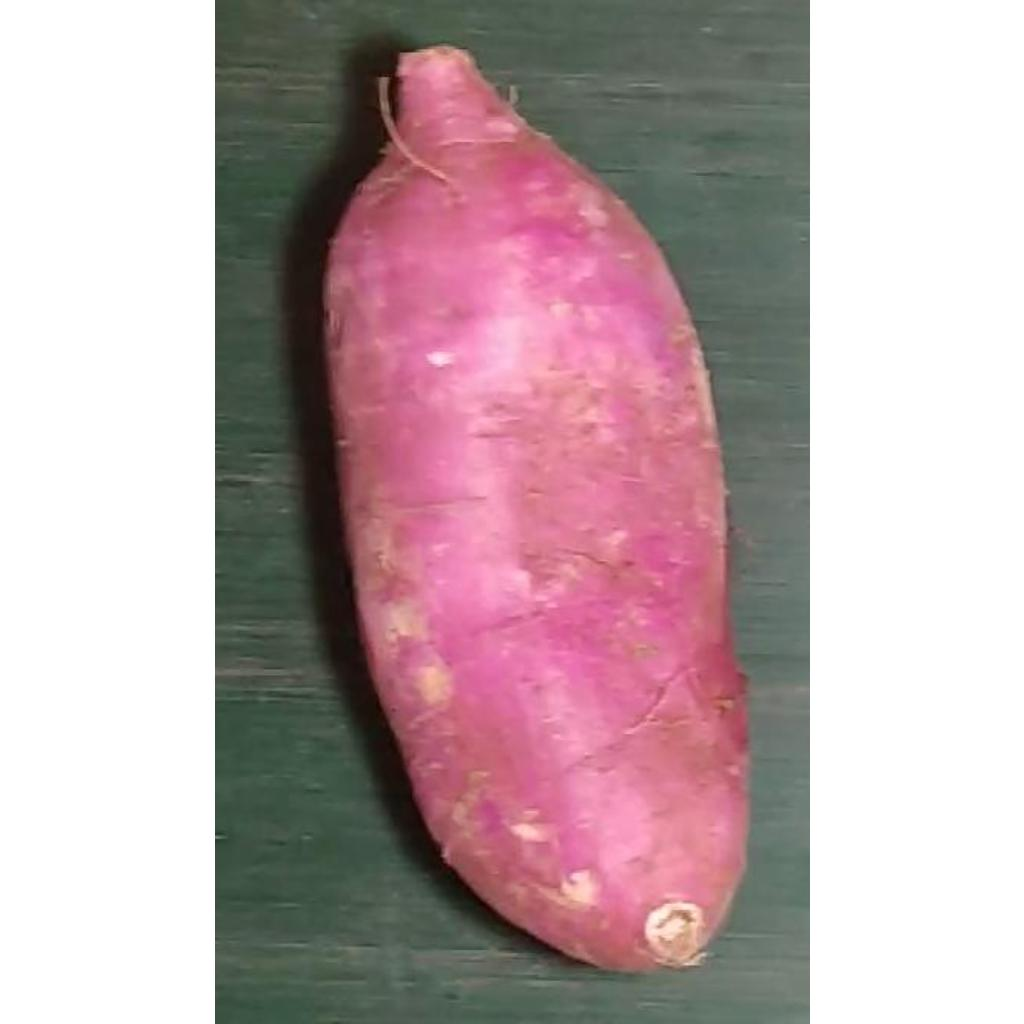Sweet Potato: (320, 46, 751, 976)
